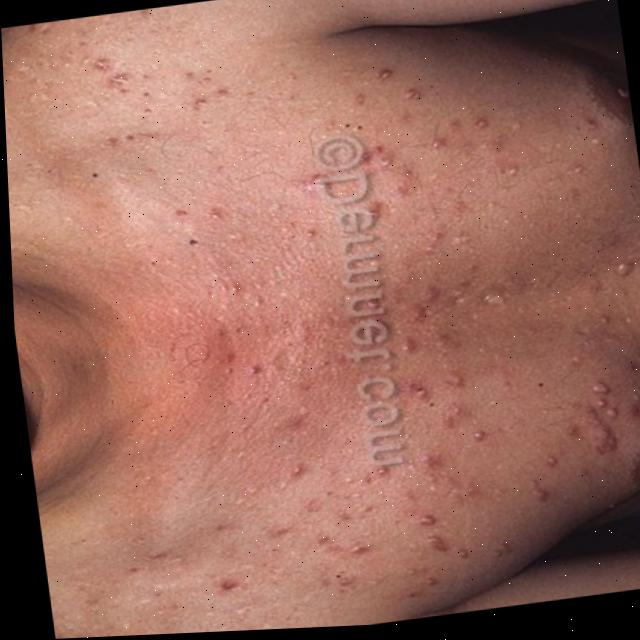Eczema: (69, 0, 640, 605)
